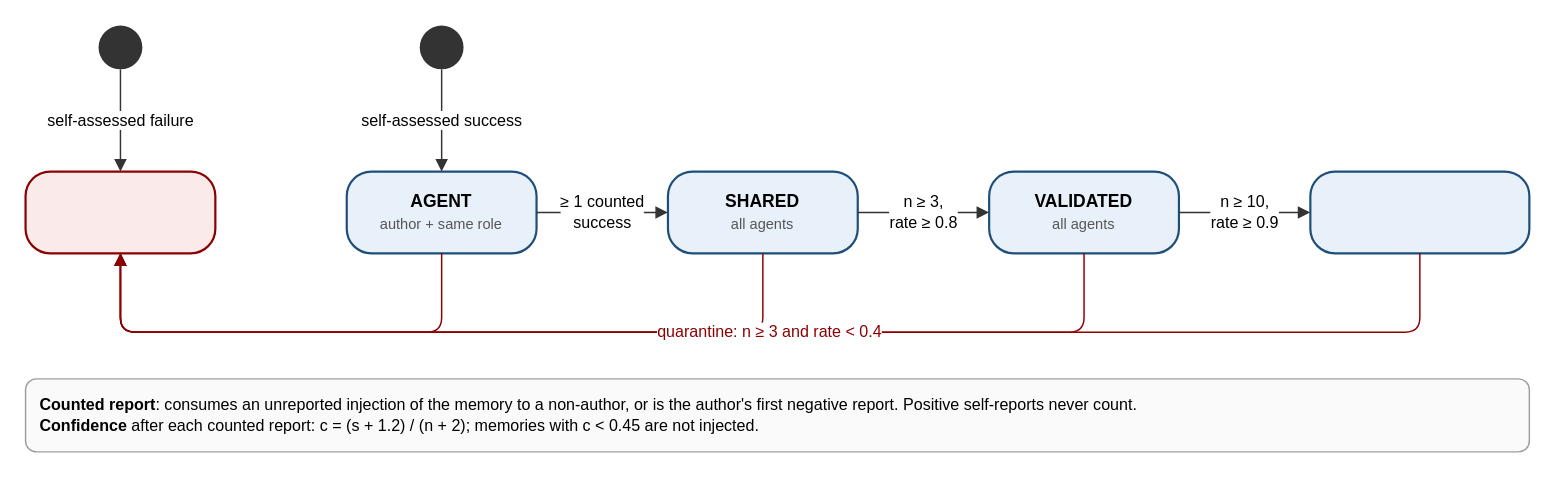
This 1556x477 diagram has some shape labels left out. Each missing label, with the box of its shape:
ORGANIZATIONAL all agents: (1309, 170, 1530, 254)
PRIVATE author only: (24, 170, 216, 254)
